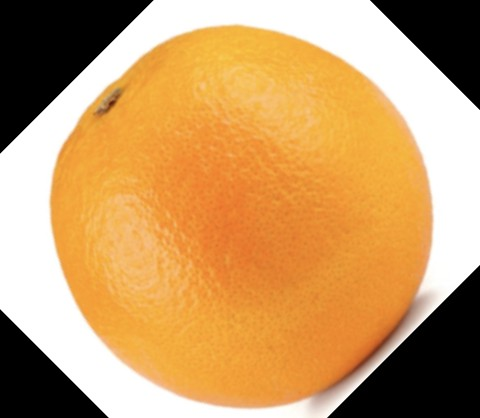fresh_orange: (50, 26, 433, 407)
